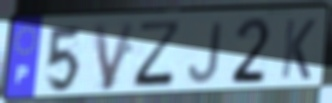2: (231, 15, 273, 86)
5: (42, 23, 85, 94)
J: (186, 20, 224, 86)
K: (278, 17, 318, 82)
V: (90, 19, 138, 94)
Z: (131, 19, 185, 91)
